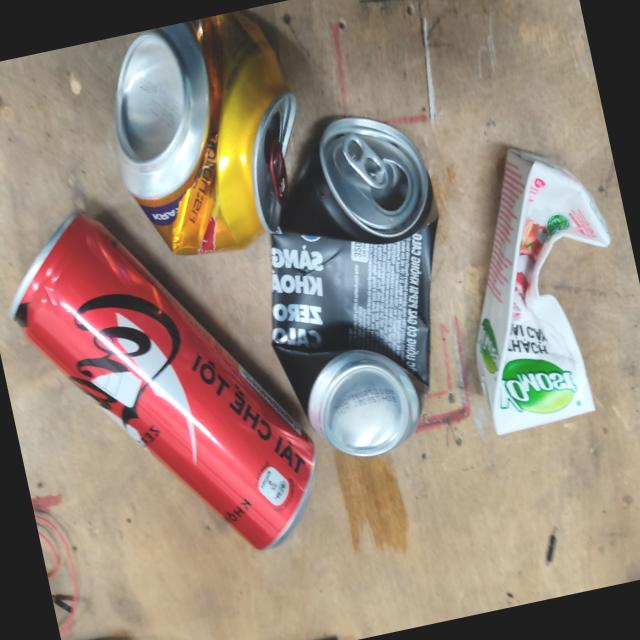kim_loai: (8, 214, 315, 550), (271, 116, 438, 457), (115, 10, 296, 254)
ly_hop_giay: (476, 147, 611, 435)
